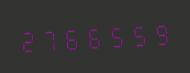five: (105, 19, 126, 51), (127, 18, 148, 50)
nine: (149, 17, 170, 49)
seven: (39, 22, 60, 54)
six: (61, 21, 82, 53), (83, 20, 104, 52)
two: (17, 24, 38, 55)
